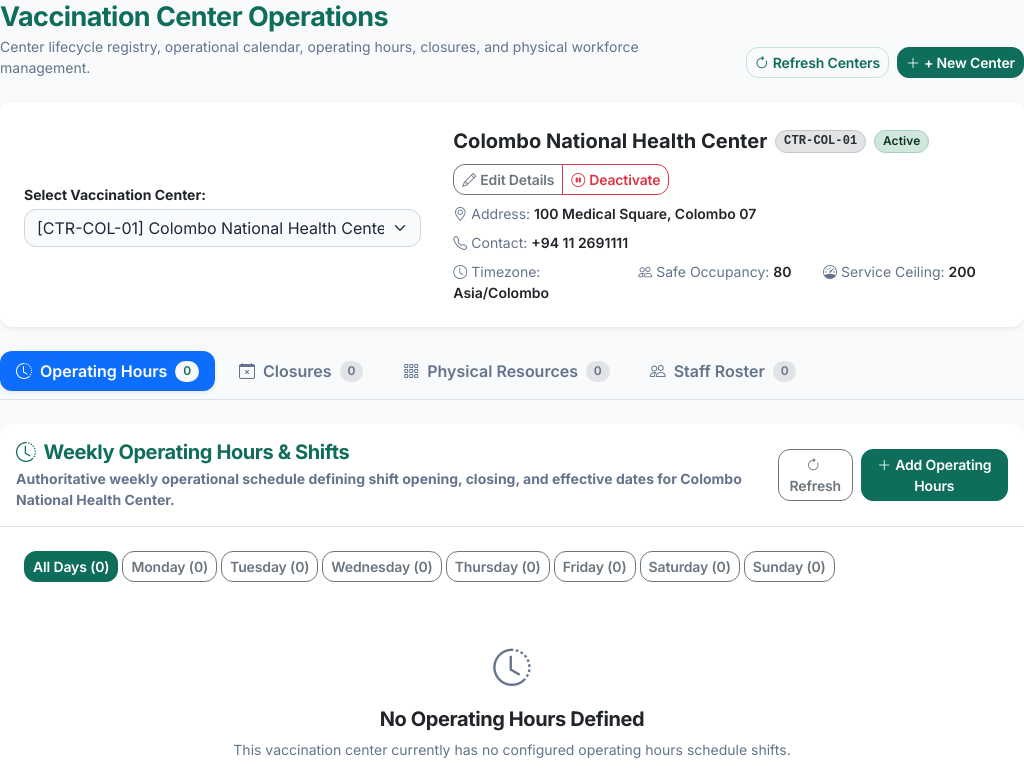
Test case: CenterOperationsPage - Center CRUD integration › opens edit modal with existing values, updates center, and refreshes UI
The width and height of the screenshot is (1024, 768).
Expected: the text "Colombo National Health Center" is shown, [453,126,767,156]
Click the button "Edit Details" at (508, 180), box [453,164,563,195]
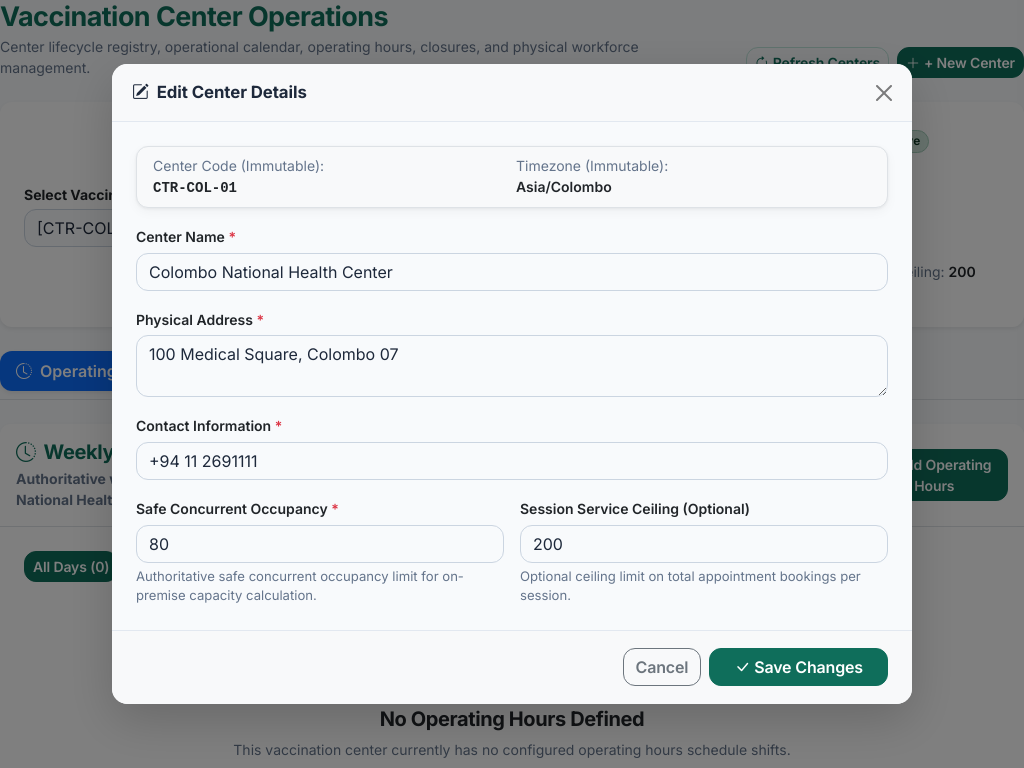
Expected: the heading "Edit Center Details" is shown, [132,80,307,105]
Expected: the field labelled "Center Name *" holds "Colombo National Health Center"
Replace the text in the field labelled "Center Name *" with "Colombo National Medical Center (Renamed)" at (512, 272), box [136,253,888,291]
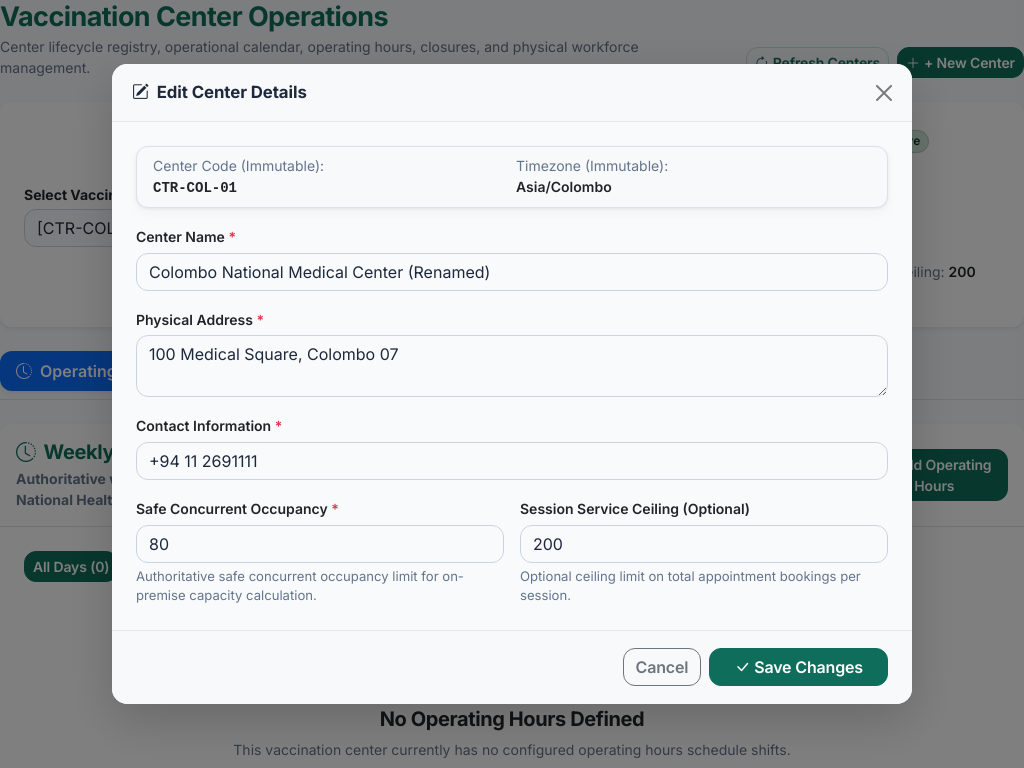
Replace the text in the text box labelled "Physical Address *" with "100 Medical Square Suite B, Colombo 07" at (512, 366), box [136,335,888,397]
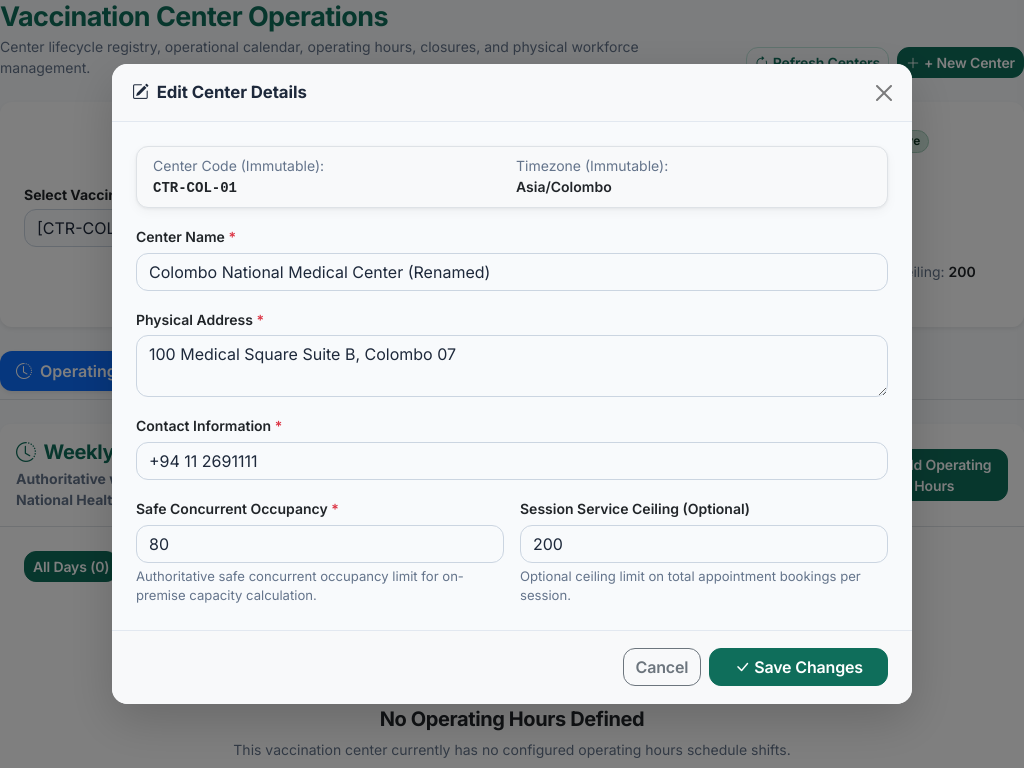
Replace the text in the number field labelled "Safe Concurrent Occupancy *" with "90" at (320, 544), box [136,524,504,562]
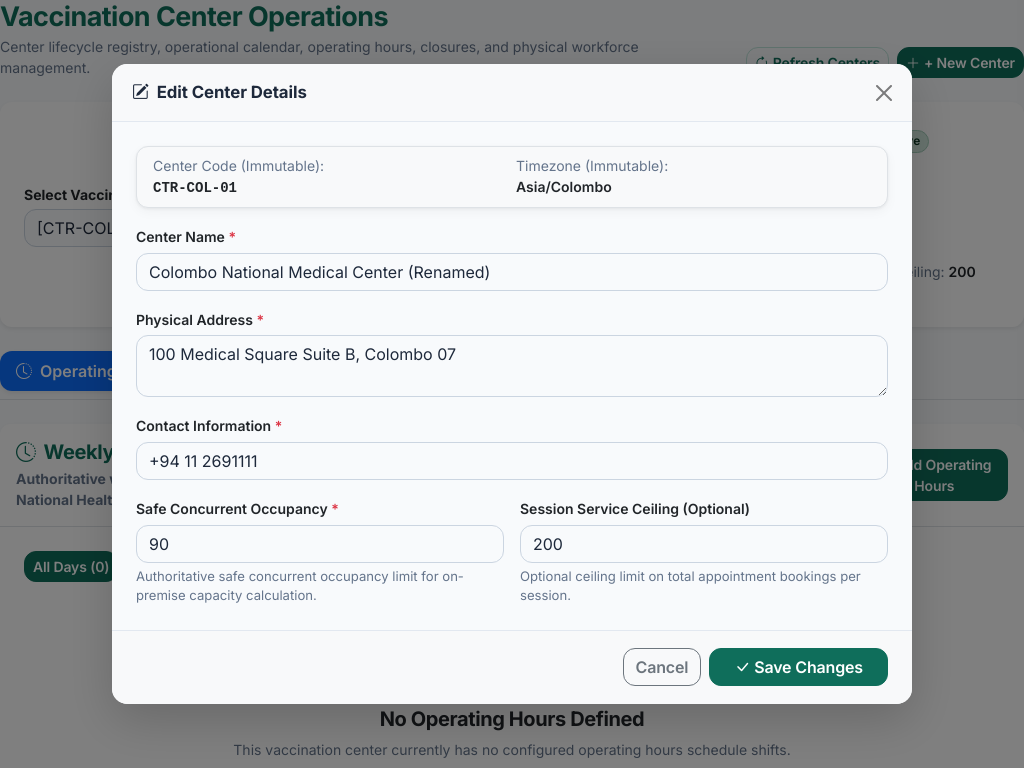
Click the button "Save Changes" at (799, 668), box [709,648,888,686]
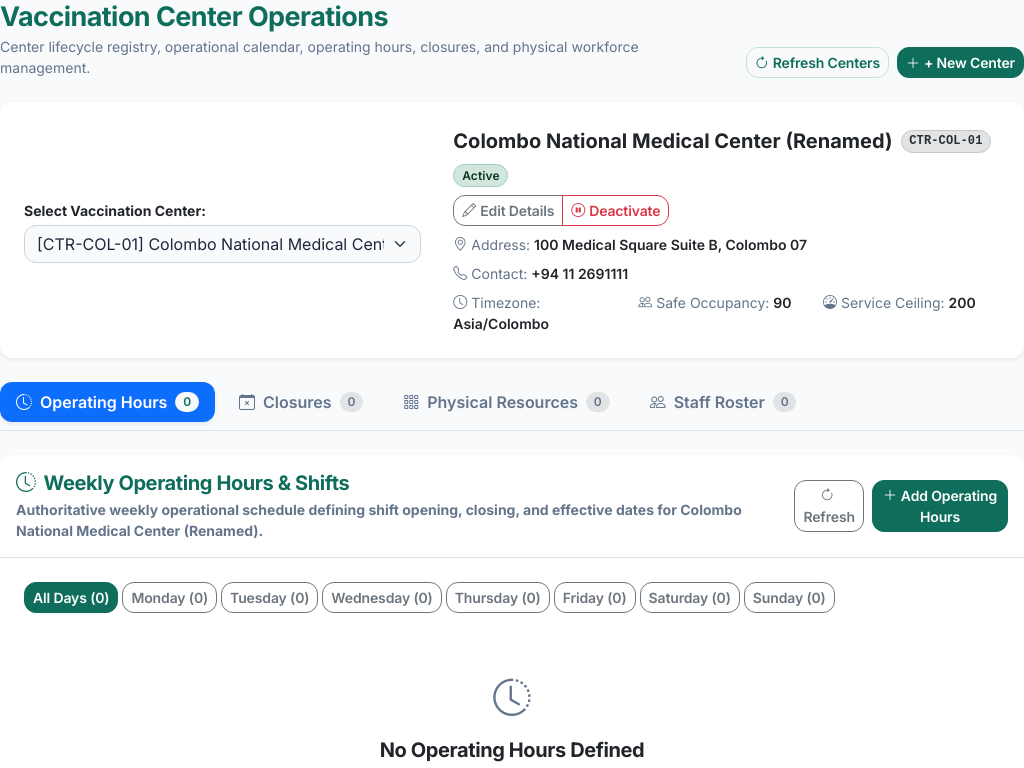
Expected: the heading "Edit Center Details" is gone
Expected: the text "Colombo National Medical Center (Renamed)" is shown, [453,126,892,156]
